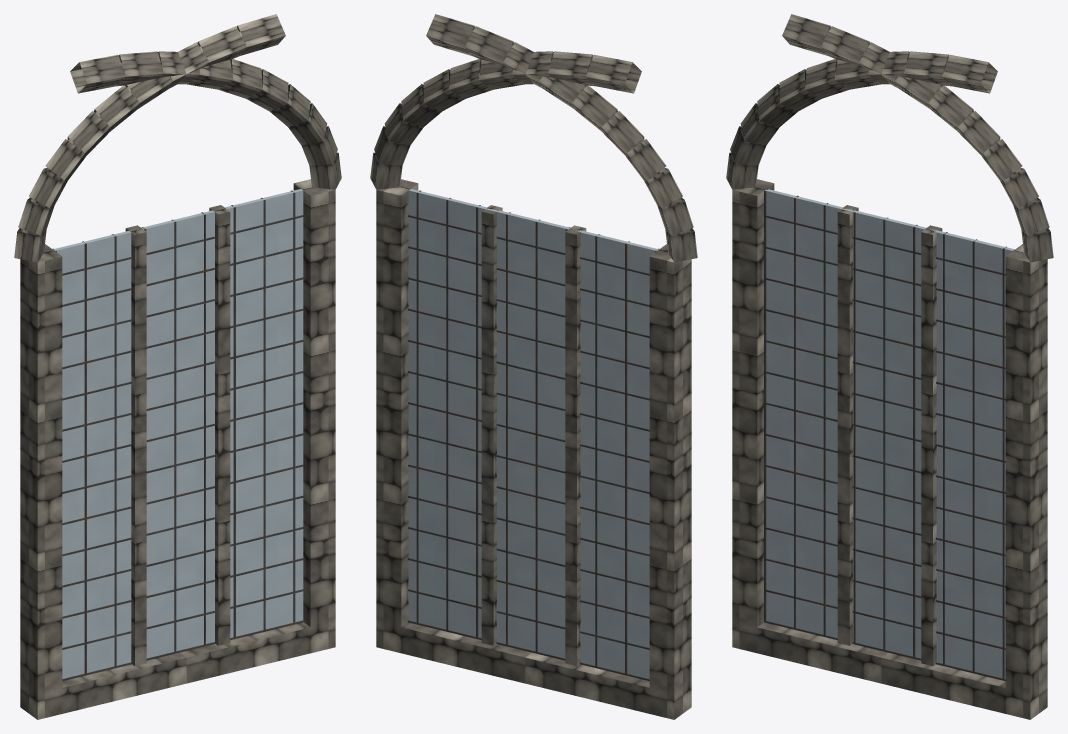
The model's file is Window_Great_1.gltf.
3 renders of one model, left to right at view 1: azimuth 30°, elevation 25°; view 2: azimuth 150°, elevation 25°; view 3: azimuth 330°, elevation 25°, orthographic.
Parts seen in each view (by area): view 1: Window_Great_1; view 2: Window_Great_1; view 3: Window_Great_1.
Part boxes in pixels (bbox=[...]): Window_Great_1: bbox=[14, 14, 341, 719]; Window_Great_1: bbox=[370, 14, 697, 719]; Window_Great_1: bbox=[726, 14, 1053, 719].
Bounding box in the file's own units: 3.3 × 6.15 × 0.3.
Materials: 3 (3 with a texture image).
